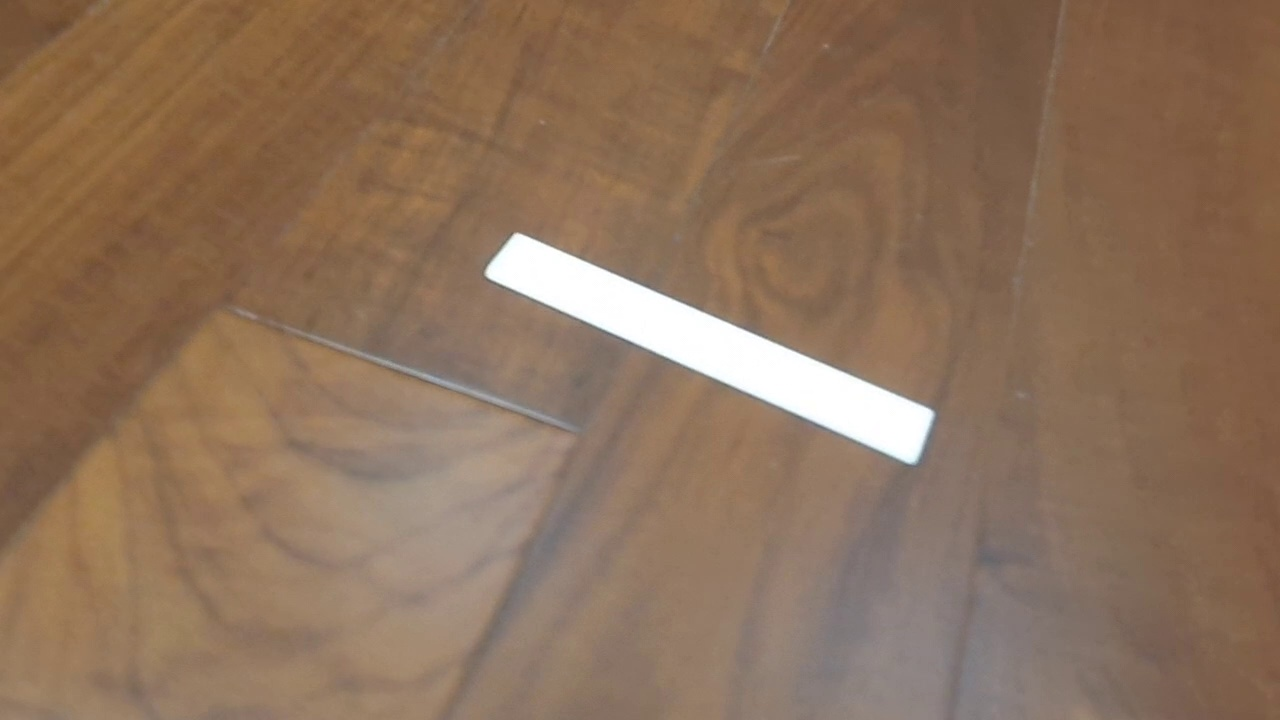ruler: (482, 230, 936, 467)
